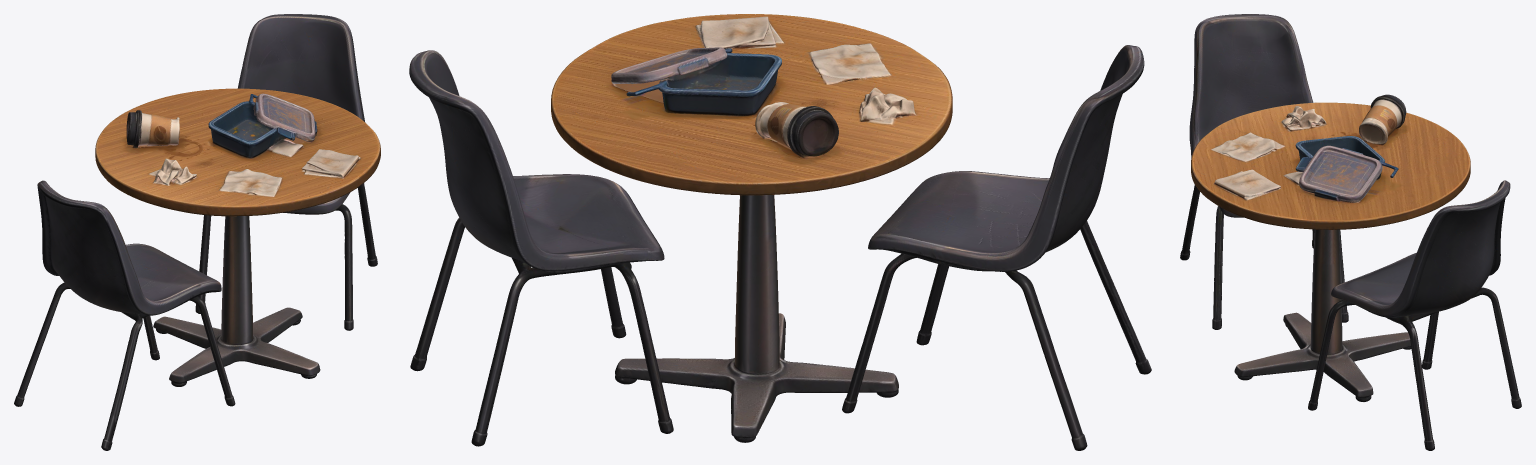
The model's file is kitchen_lunch_table.glb.
3 views of the same model, side by side, from view 1: azimuth 30°, elevation 25°; view 2: azimuth 150°, elevation 25°; view 3: azimuth 270°, elevation 25° (orthographic). The views are drawn at different scales.
Parts seen in each view (by area): view 1: mesh_node; view 2: mesh_node; view 3: mesh_node.
Boxes of the visible parts, x1,y1,x2,y2 form: mesh_node: (14, 14, 380, 450); mesh_node: (409, 14, 1151, 450); mesh_node: (1180, 14, 1521, 450).
Bounding box in the file's own units: 1.9 × 1.07 × 1.35.
1 material, 1 textured.
